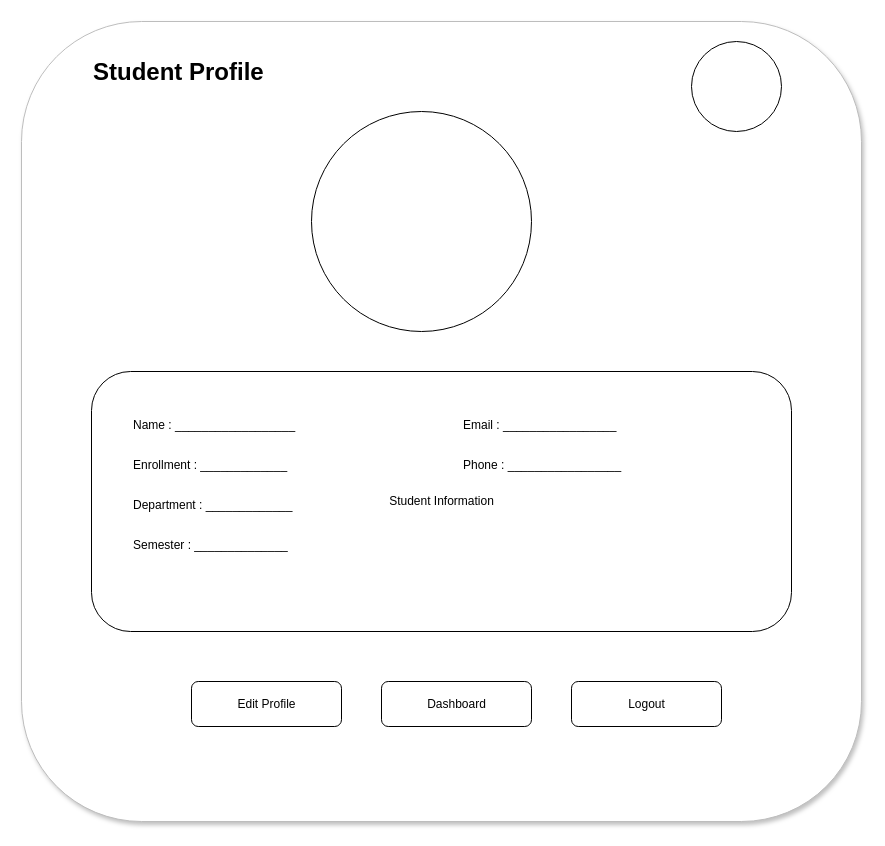
Image size: 885x846. Some labels were removed from this diagram. Each missing label, with the centre of its shape:
"LOGO" goes at point (736, 86).
"PHOTO" goes at point (421, 221).
